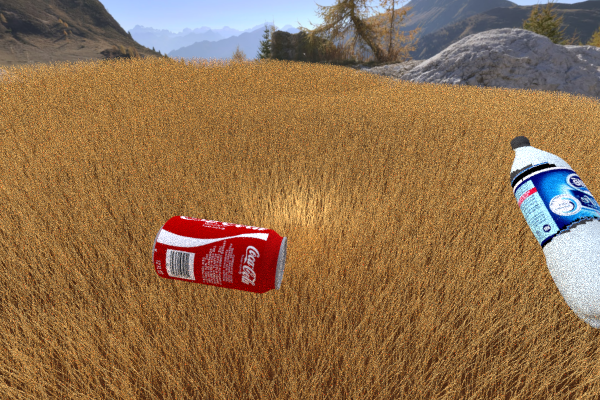Plastic Bottle: (510, 135, 600, 331), (152, 215, 287, 293)
